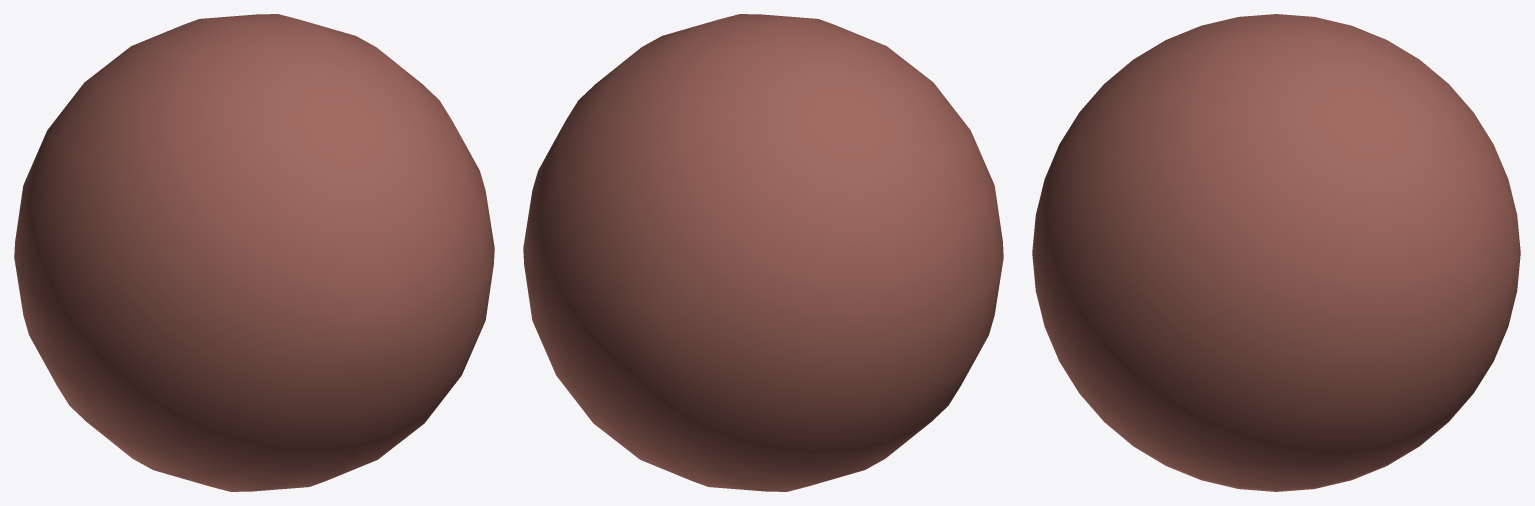
The model's file is mixamo_humanoid_joint_leftFoot.fbx.
3 renders of one model, left to right at view 1: azimuth 30°, elevation 25°; view 2: azimuth 150°, elevation 25°; view 3: azimuth 270°, elevation 25°, orthographic.
Visible parts, largest first — view 1: joint_LeftFoot; view 2: joint_LeftFoot; view 3: joint_LeftFoot.
Boxes of the visible parts, bbox=[...] form: joint_LeftFoot: bbox=[14, 14, 494, 491]; joint_LeftFoot: bbox=[523, 14, 1003, 491]; joint_LeftFoot: bbox=[1032, 14, 1520, 491].
Bounding box in the file's own units: 7.17 × 7.17 × 7.27.
